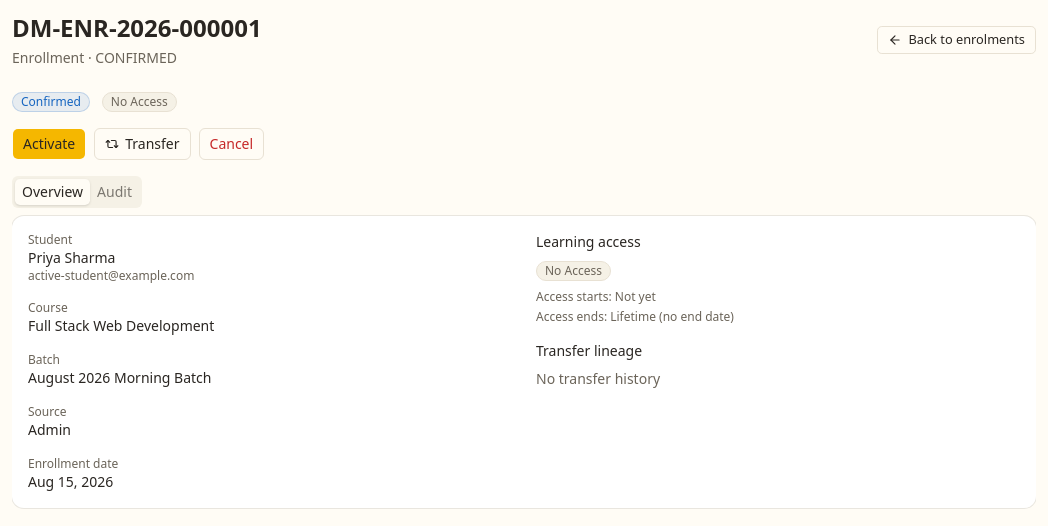
EnrollmentDetailPage › lazily loads the audit timeline only once the Audit tab is opened
Expected: the heading "DM-ENR-2026-000001" is shown, x1=12 y1=12 x2=262 y2=44
Expected: the text "Created" is not shown
Click the tab "Audit": (115, 192) x1=90 y1=179 x2=139 y2=205
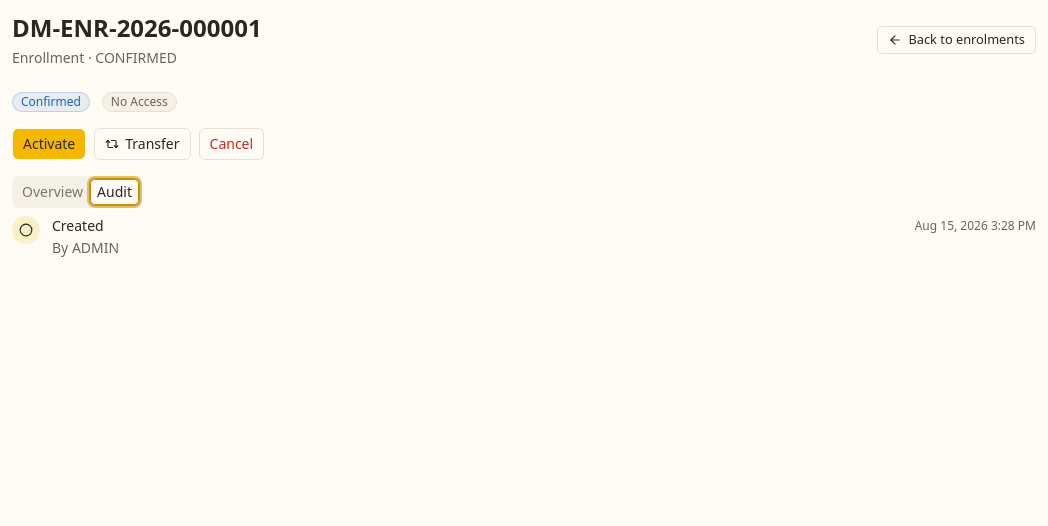
Expected: the text "Created" is shown, x1=52 y1=216 x2=104 y2=236
